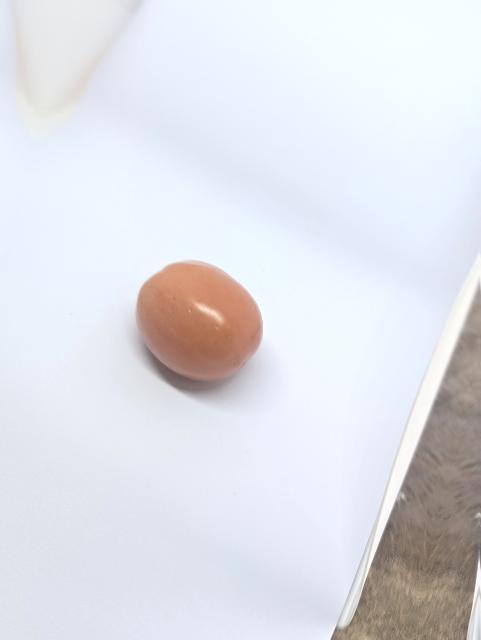turning: (130, 251, 277, 390)
